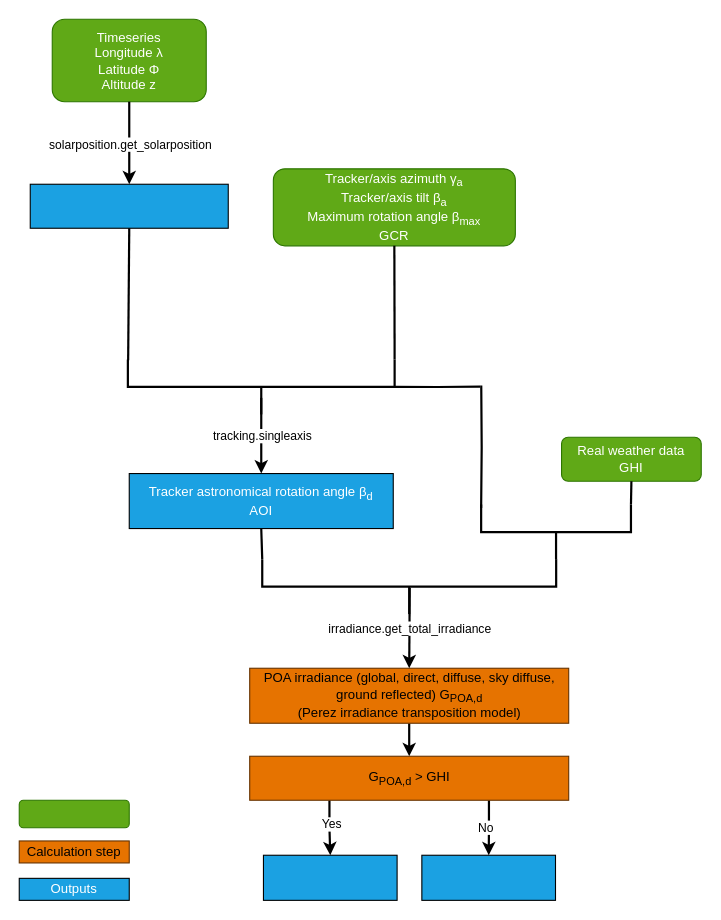
The diagram is 721 pixels wide and 920 high, and some of its shapes have lost their labels. Here are the shapes that lost their labels. From the top down, the centre of each, then its label:
At pixel 128 205: "Solar zenith θ z Solar azimuth γ s".
At pixel 73 813: "Inputs".
At pixel 329 877: "β opt = β d G POA,opt = G POA,d".
At pixel 488 877: "β opt = 0 G POA,opt = GHI".
